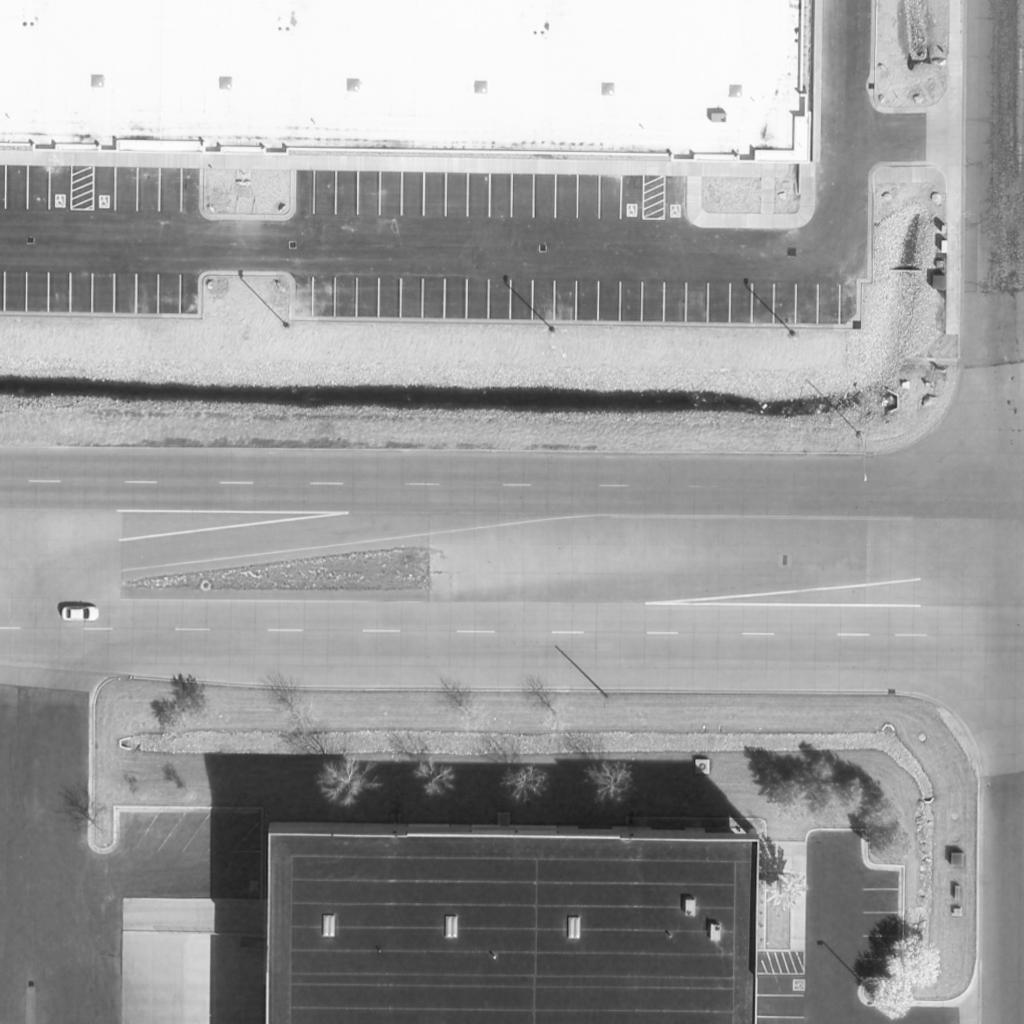vehicle: (62, 607, 100, 621)
